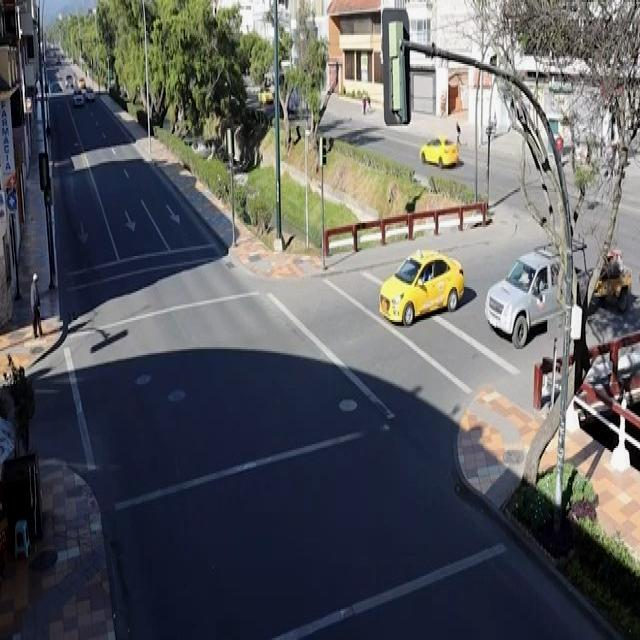CMT: (488, 245, 598, 343)
